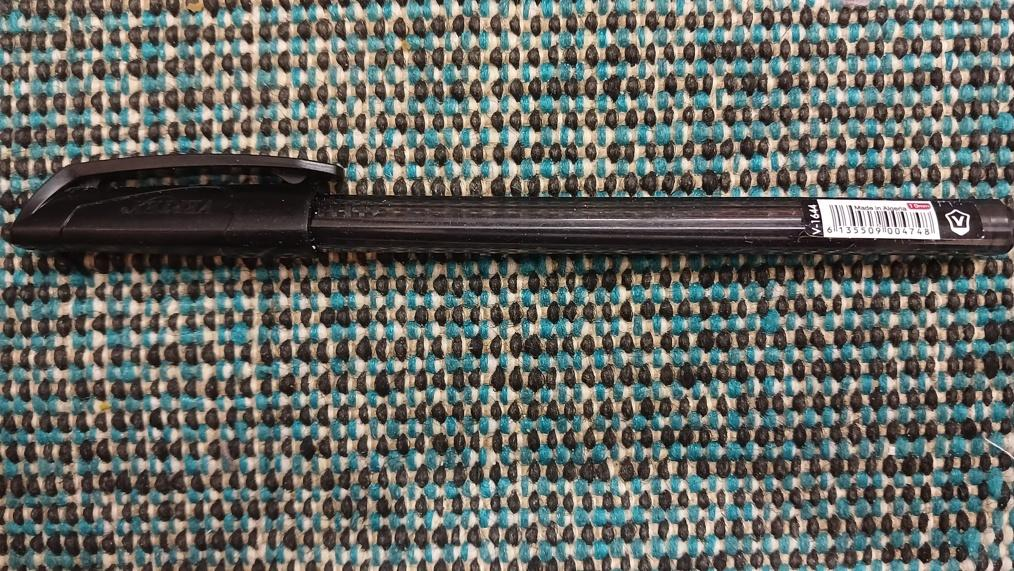pen: (0, 151, 1014, 254)
